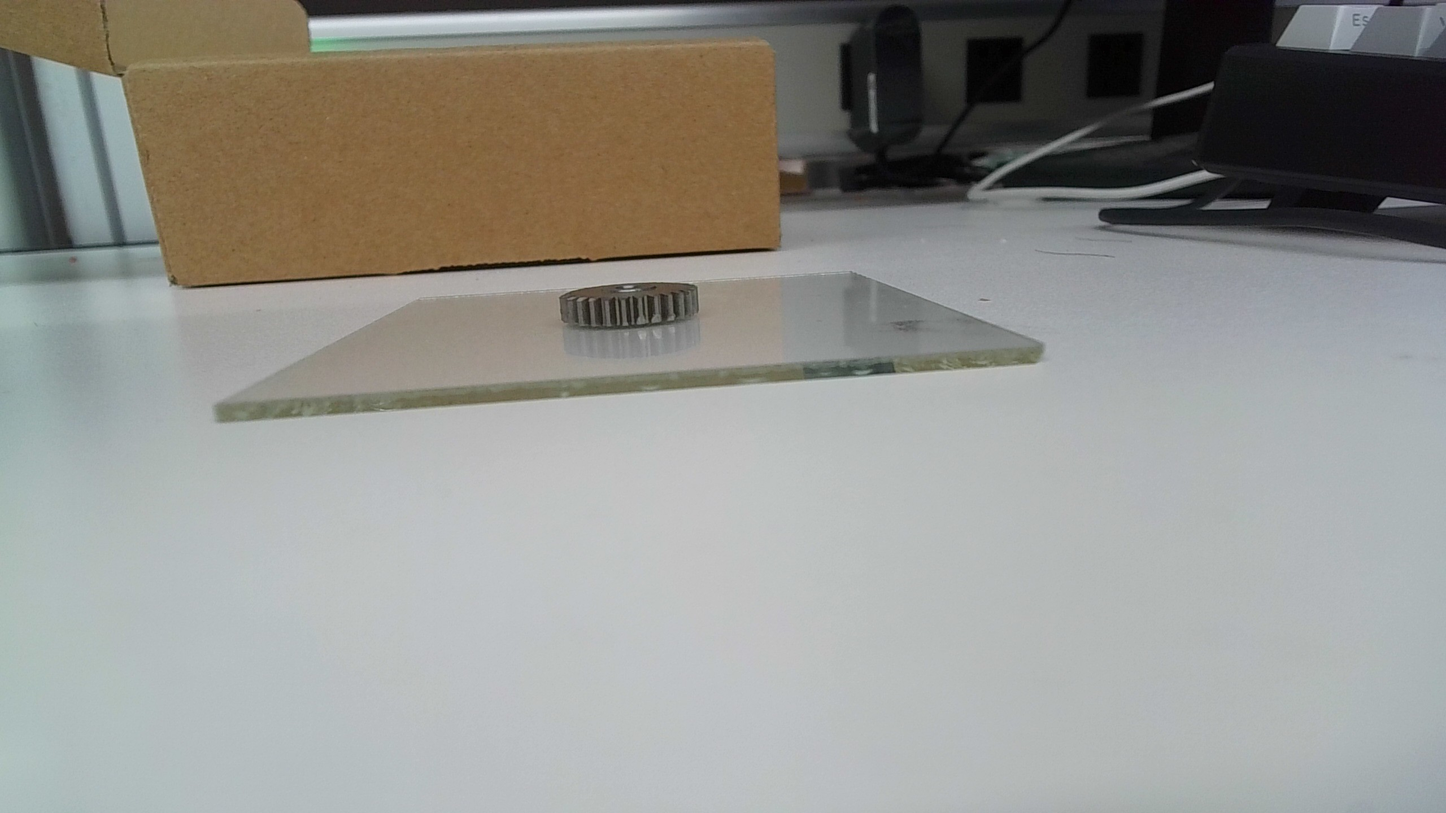gear: (557, 282, 702, 332)
